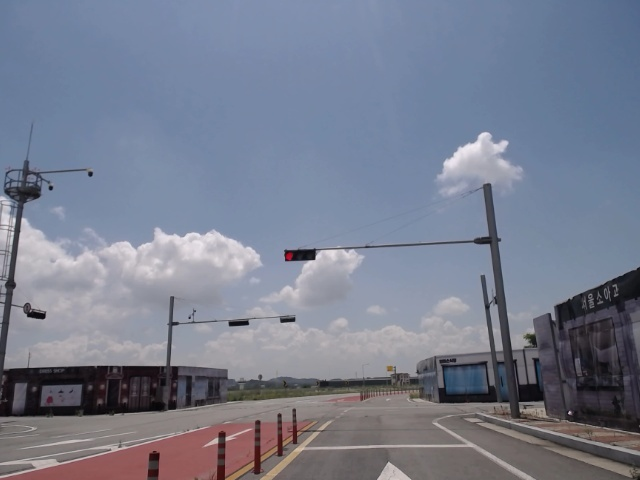red_3: (282, 249, 317, 260)
